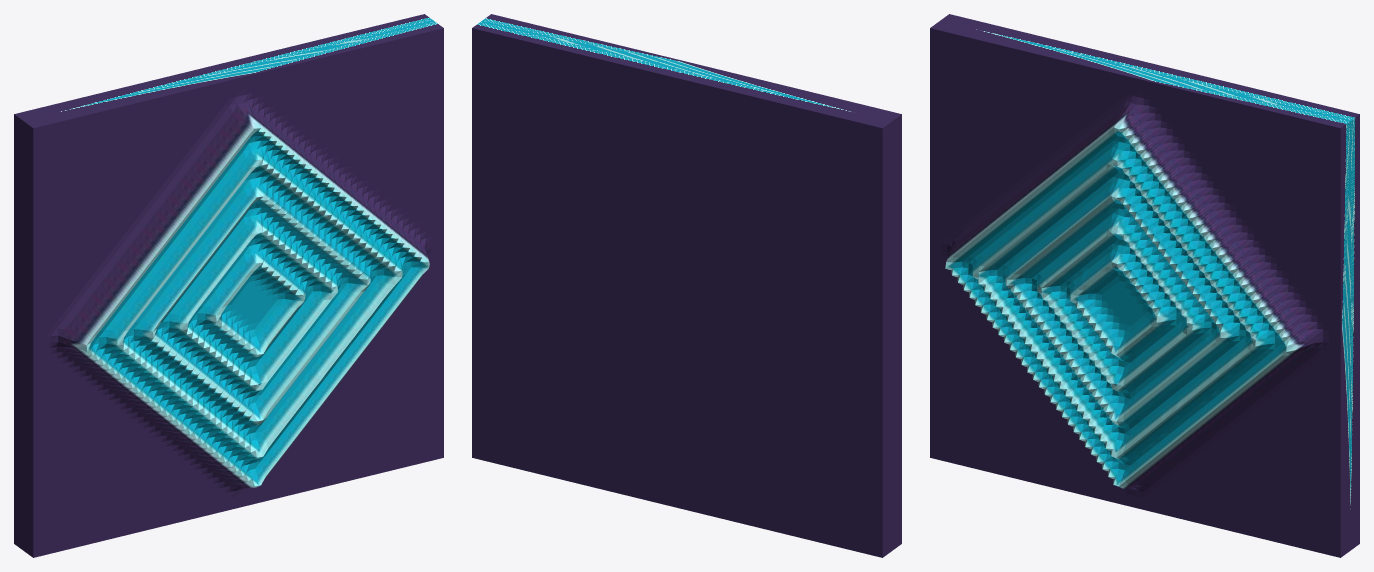
Rendered from asset_06.glb.
The picture shows the model from 3 angles, left to right: view 1: azimuth 30°, elevation 25°; view 2: azimuth 150°, elevation 25°; view 3: azimuth 330°, elevation 25°; orthographic projection.
Parts seen in each view (by area): view 1: geometry_0; view 2: geometry_0; view 3: geometry_0.
Part boxes in pixels (x1,y1,x2,y2): geometry_0: (14,14,443,557); geometry_0: (472,14,901,557); geometry_0: (930,14,1359,557).
Size of the model in its own units: 2 by 2 by 0.3499.
Materials: 1 (1 with a texture image).
